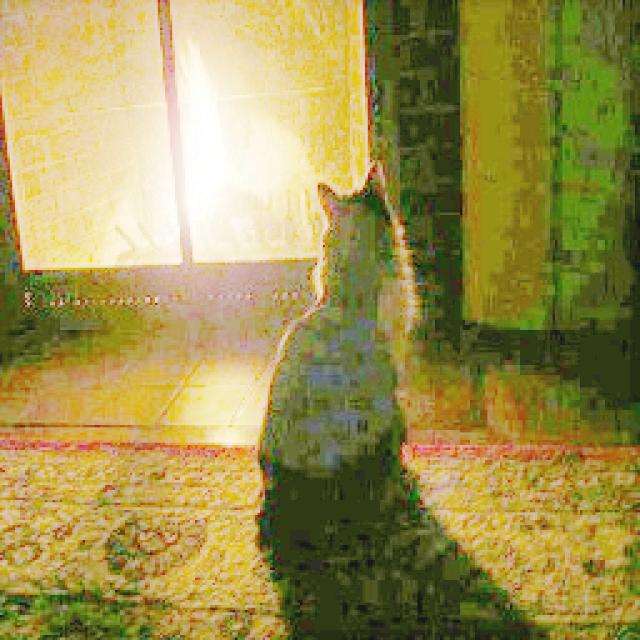cat: (234, 160, 436, 529)
